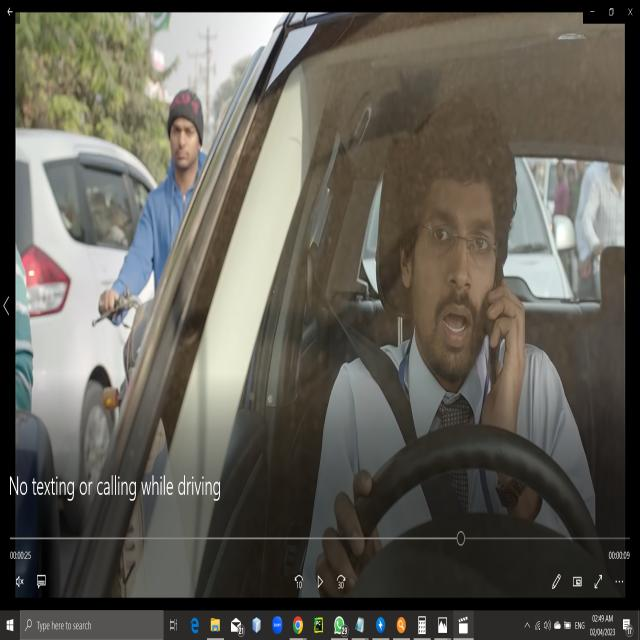using_phone: (432, 227, 534, 396)
without_using_phone: (148, 61, 218, 192)
